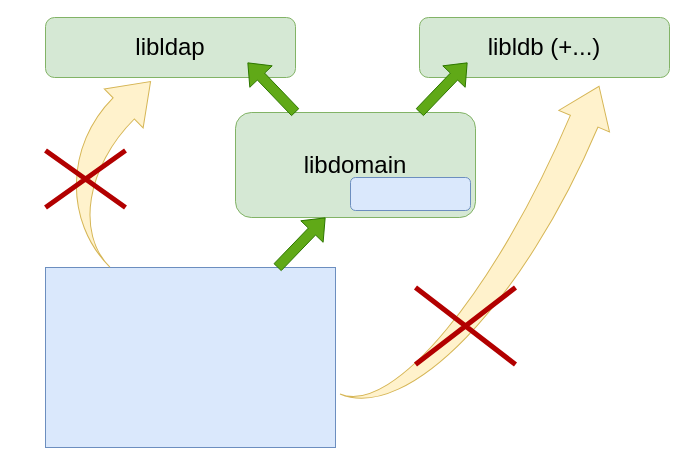
Some shapes in this 687 by 469 pixel diagram are drawn without their labels. The shapes that lost their labels are listed below. From the top down, each one's centre as x and y in pixels, then its label:
the point at 410,193: adldap
the point at 190,357: ADMC
